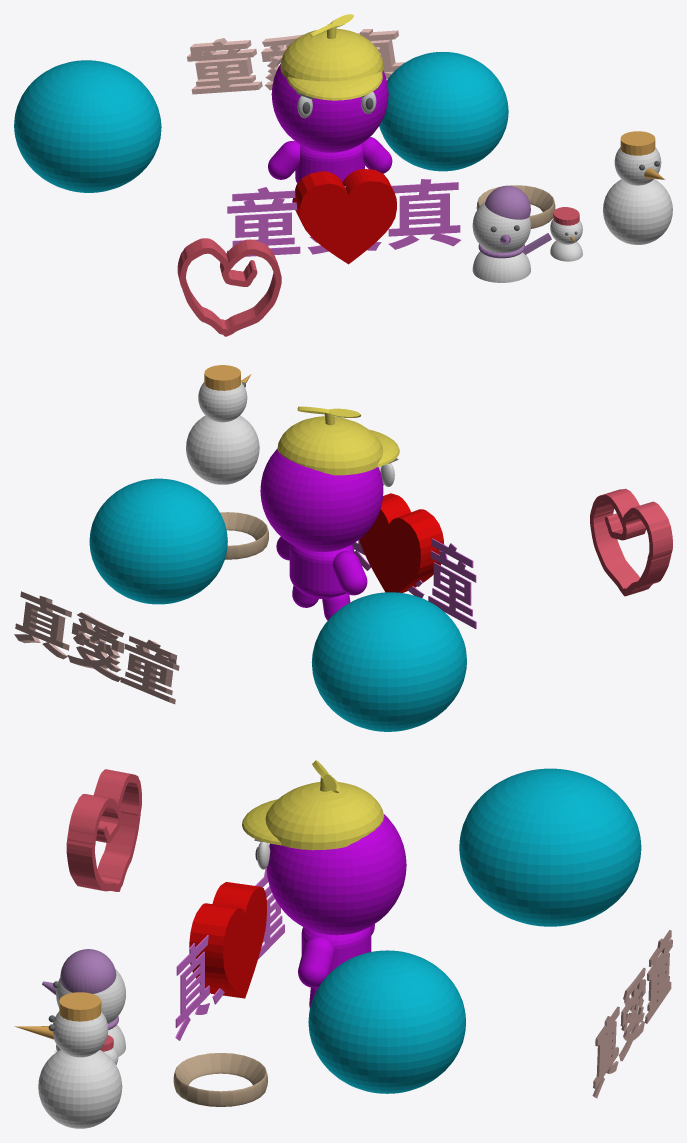
Rendered from Joyce1.glb.
3 renders of one model, top to bottom at view 1: azimuth 30°, elevation 25°; view 2: azimuth 150°, elevation 25°; view 3: azimuth 270°, elevation 25°, orthographic. The views are drawn at different scales.
Visible parts, largest first — view 1: Mesh_Mesh_head_geo.001_lambert2SG.001; view 2: Mesh_Mesh_head_geo.001_lambert2SG.001; view 3: Mesh_Mesh_head_geo.001_lambert2SG.001.
Part boxes in pixels (x1,y1,x2,y2): Mesh_Mesh_head_geo.001_lambert2SG.001: (14,14,672,336); Mesh_Mesh_head_geo.001_lambert2SG.001: (14,365,672,731); Mesh_Mesh_head_geo.001_lambert2SG.001: (14,760,672,1128).
Size of the model in its own units: 187 by 75.46 by 188.
